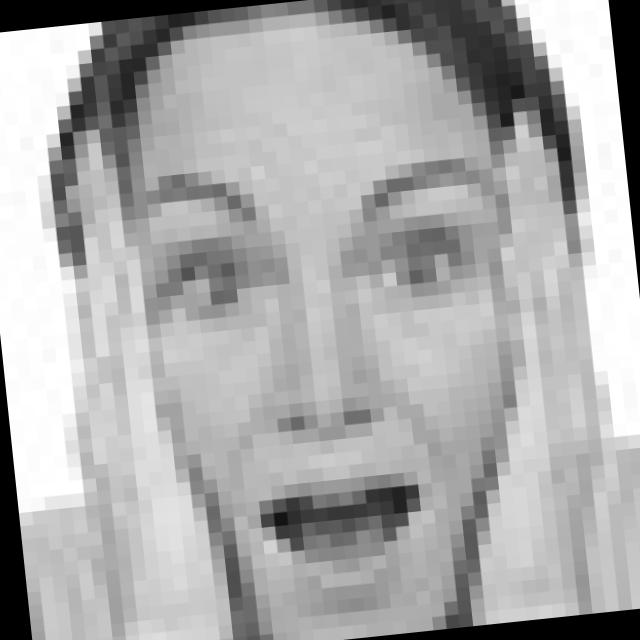surprise: (128, 139, 538, 624)
